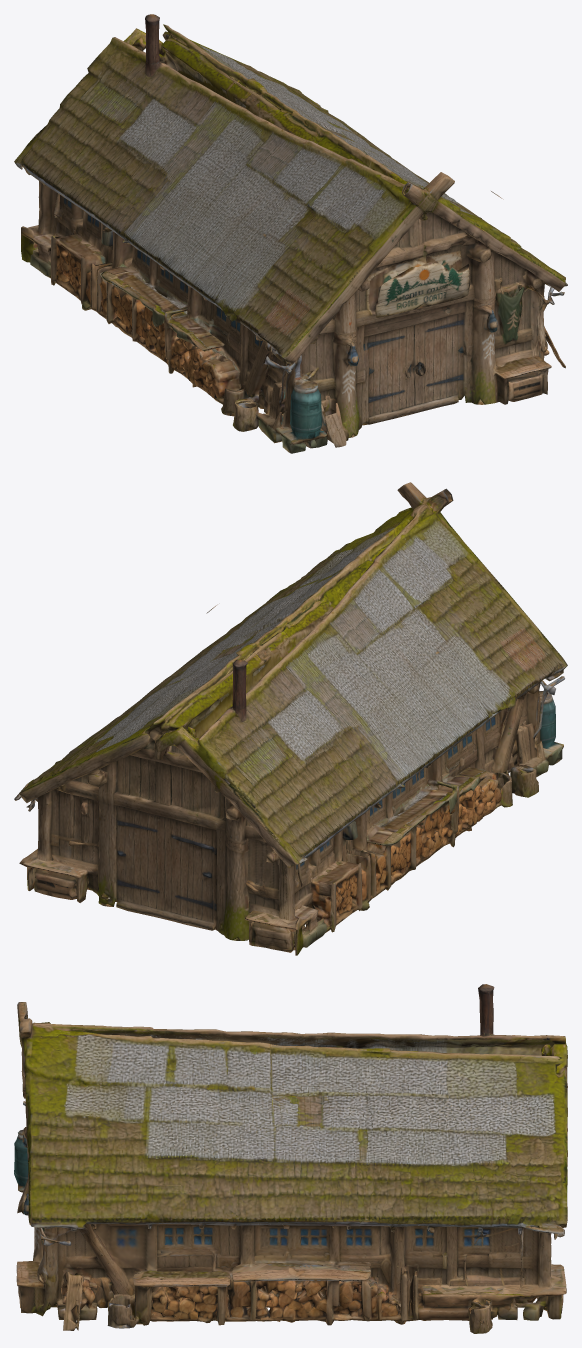
The model's file is House_Hall.fbx.
3 views of the same model, one above another, from view 1: azimuth 30°, elevation 25°; view 2: azimuth 150°, elevation 25°; view 3: azimuth 270°, elevation 25° (orthographic).
Parts seen in each view (by area): view 1: texture_mapping; view 2: texture_mapping; view 3: texture_mapping.
Boxes of the visible parts, x1,y1,x2,y2 form: texture_mapping: (14, 14, 567, 453); texture_mapping: (14, 482, 567, 955); texture_mapping: (14, 984, 567, 1333).
Size of the model in its own units: 0.6509 by 0.4986 by 0.9985.
Materials: 1 (1 with a texture image).
